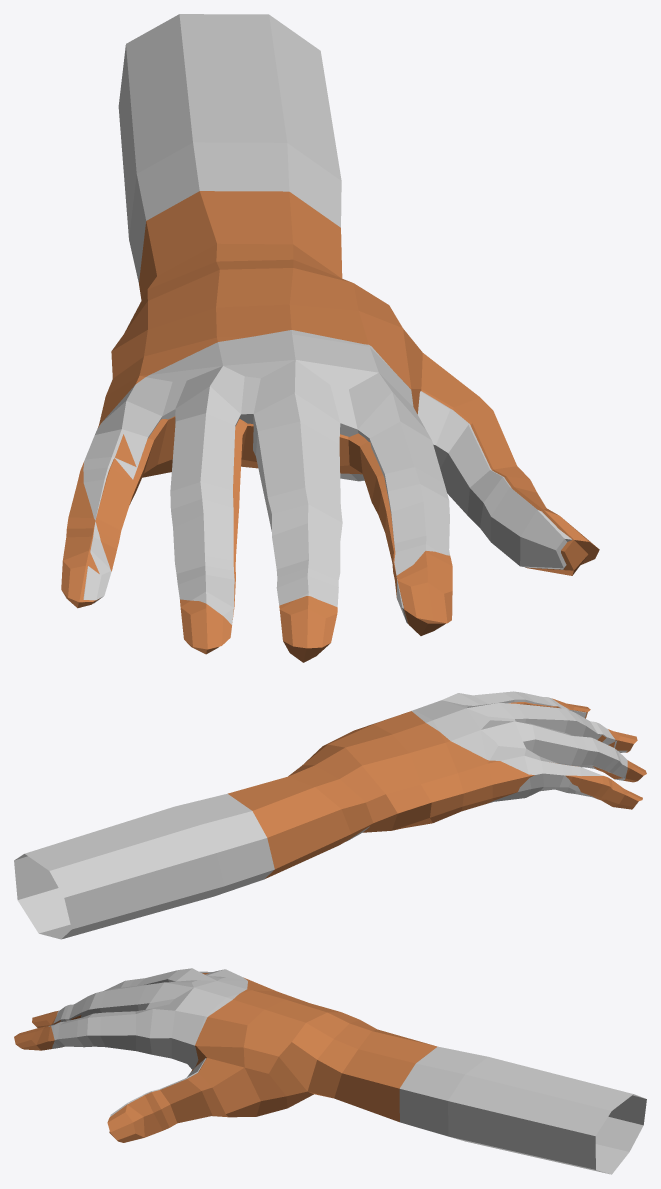
The model's file is mano 1.fbx.
The picture shows the model from 3 angles, top to bottom: view 1: azimuth 30°, elevation 25°; view 2: azimuth 150°, elevation 25°; view 3: azimuth 270°, elevation 25°; orthographic projection. The views are drawn at different scales.
Visible parts, largest first — view 1: Plane005, Plane005.001; view 2: Plane005, Plane005.001; view 3: Plane005, Plane005.001.
Part boxes in pixels (x1,y1,x2,y2): Plane005: [83, 14, 572, 636]; Plane005.001: [61, 191, 599, 662]; Plane005: [14, 691, 627, 939]; Plane005.001: [228, 698, 646, 878]; Plane005: [48, 968, 646, 1174]; Plane005.001: [14, 971, 437, 1142].
Bounding box in the file's own units: 98.64 × 28.18 × 154.
